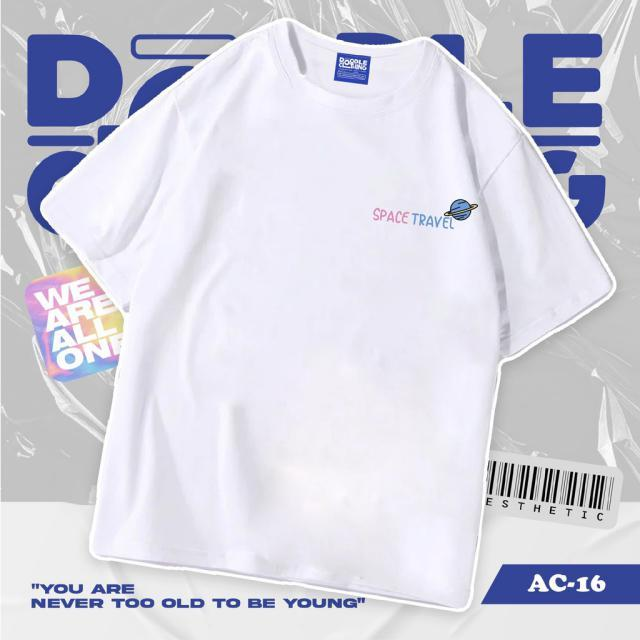Shirt: (40, 16, 622, 614)
